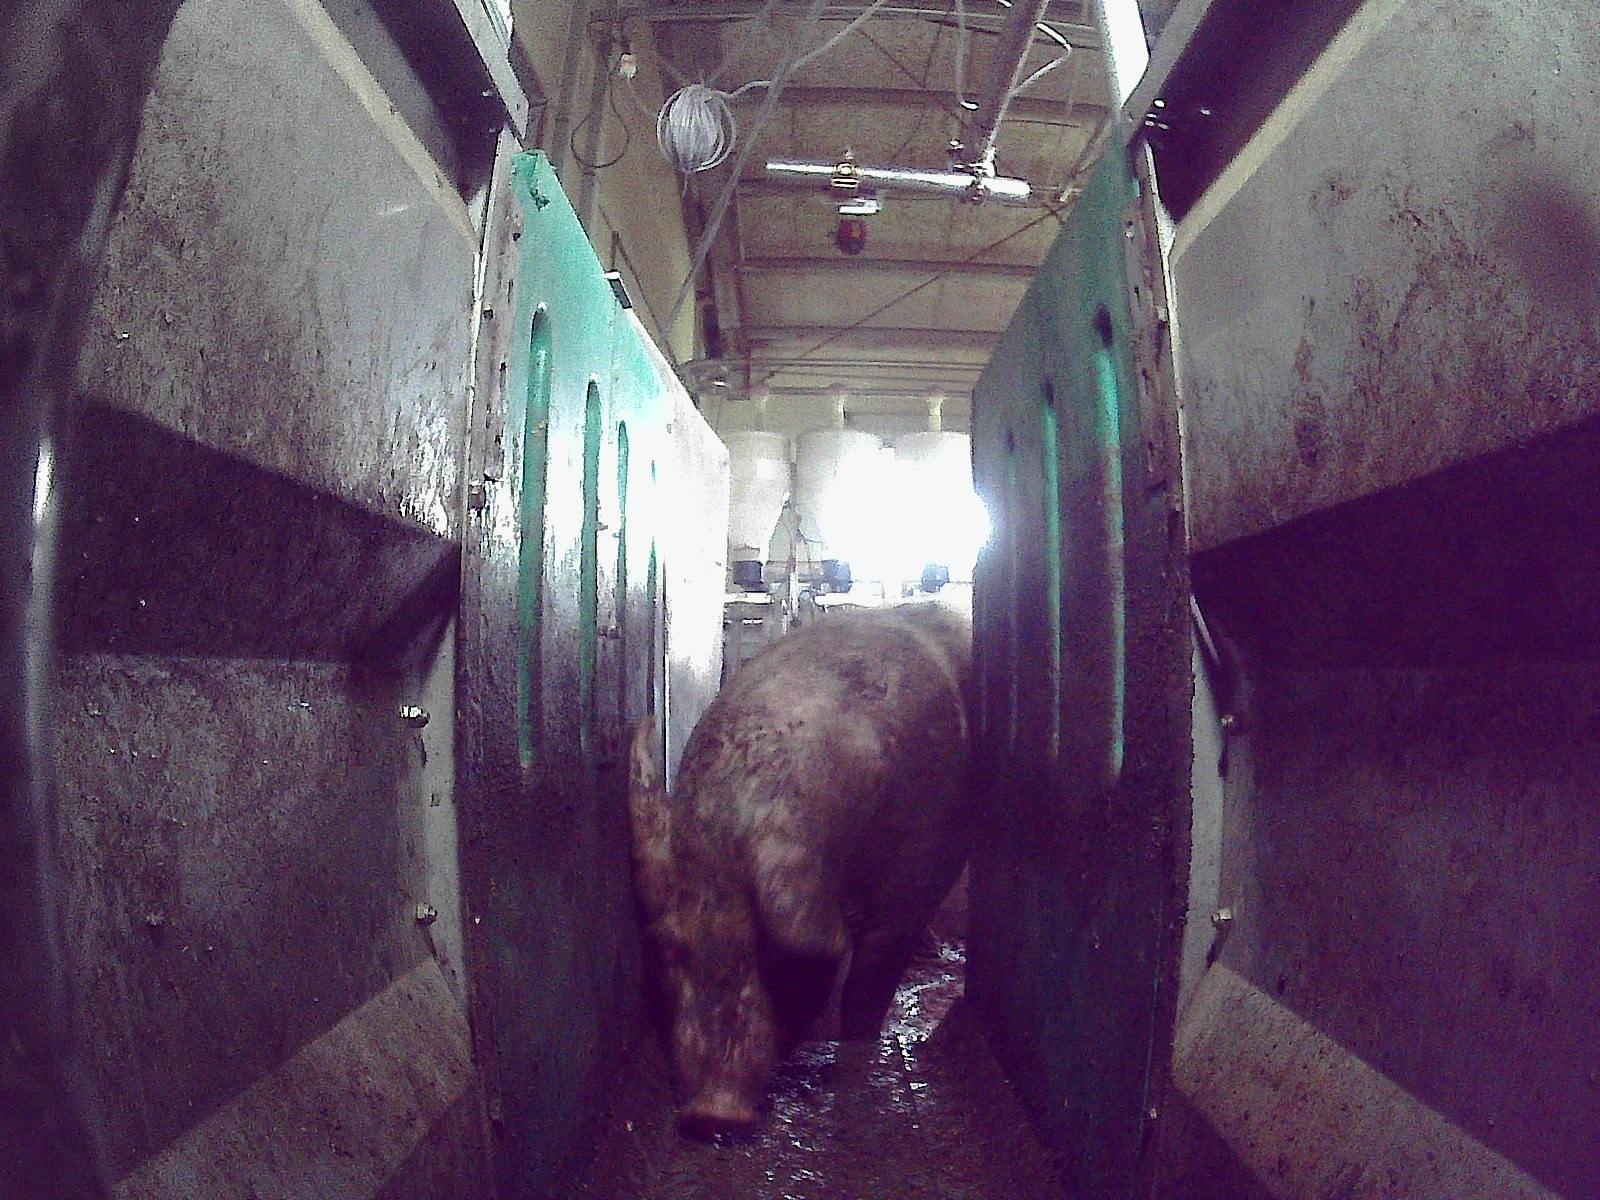Face: (633, 829, 825, 1135)
